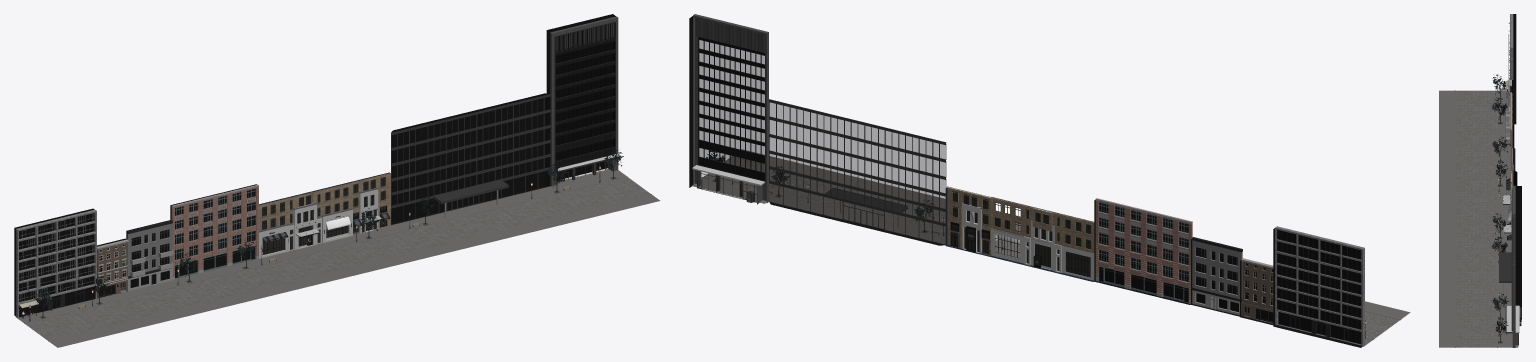
Rendered from ReplaceCGT_Facades02.fbx.
The picture shows the model from 3 angles, left to right: view 1: azimuth 30°, elevation 25°; view 2: azimuth 150°, elevation 25°; view 3: azimuth 270°, elevation 25°; orthographic projection. The views are drawn at different scales.
Visible parts, largest first — view 1: Road, wP_Facade_F, wP_Facade_G, wP_Facade_A, wP_Facade_E, wP_Facade_D, wP_Facade_C, wP_Facade_B; view 2: wP_Facade_F, wP_Facade_G, wP_Facade_A, wP_Facade_E, Road, wP_Facade_D, wP_Facade_C, wP_Facade_B; view 3: Road, wP_Facade_G, wP_Facade_A, wP_Facade_F, wP_Facade_E, wP_Facade_D, wP_Facade_C, wP_Tree_002, wP_Tree_003, wP_Tree_007, wP_Tree_001, wP_Tree_005 (+3 smaller).
Boxes of the visible parts, x1,y1,x2,y2 form: Road: (16,169,660,347); wP_Facade_F: (391,93,551,225); wP_Facade_G: (546,14,621,186); wP_Facade_A: (14,208,96,317); wP_Facade_E: (258,172,390,258); wP_Facade_D: (170,184,258,279); wP_Facade_C: (126,220,173,291); wP_Facade_B: (96,238,128,298); wP_Facade_F: (769,99,946,245); wP_Facade_G: (689,14,769,204); wP_Facade_A: (1273,226,1364,347); wP_Facade_E: (945,186,1094,281); Road: (692,149,1410,346); wP_Facade_D: (1094,198,1192,304); wP_Facade_C: (1191,237,1242,316); wP_Facade_B: (1240,258,1273,324); Road: (1439,90,1518,347); wP_Facade_G: (1505,185,1521,347); wP_Facade_A: (1508,14,1516,124); wP_Facade_F: (1499,170,1517,293); wP_Facade_E: (1503,148,1515,244); wP_Facade_D: (1510,92,1514,169); wP_Facade_C: (1505,85,1513,156); wP_Tree_002: (1492,97,1507,123); wP_Tree_003: (1492,136,1509,161); wP_Tree_007: (1492,293,1509,318); wP_Tree_001: (1492,74,1507,99); wP_Tree_005: (1492,213,1507,238).
Size of the model in its own units: 19800 by 4803 by 2690.
Materials: 79 (11 with a texture image).
